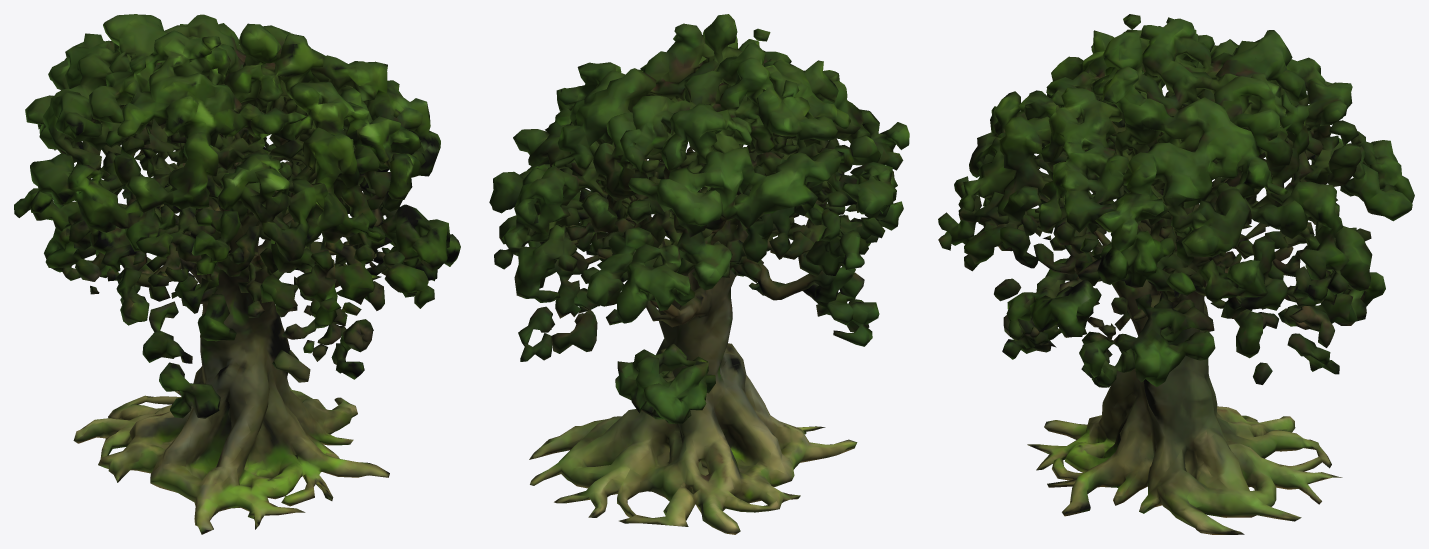
The model's file is AI_AerialRootJungleTree.fbx.
3 views of the same model, side by side, from view 1: azimuth 30°, elevation 25°; view 2: azimuth 150°, elevation 25°; view 3: azimuth 270°, elevation 25° (orthographic). The views are drawn at different scales.
Visible parts, largest first — view 1: Mesh_0; view 2: Mesh_0; view 3: Mesh_0.
Boxes of the visible parts, box(x1,y1,x2,y2) form: Mesh_0: box(14, 14, 460, 534); Mesh_0: box(489, 14, 909, 534); Mesh_0: box(938, 14, 1414, 534).
Bounding box in the file's own units: 174 × 199 × 194.
1 material, 1 textured.
